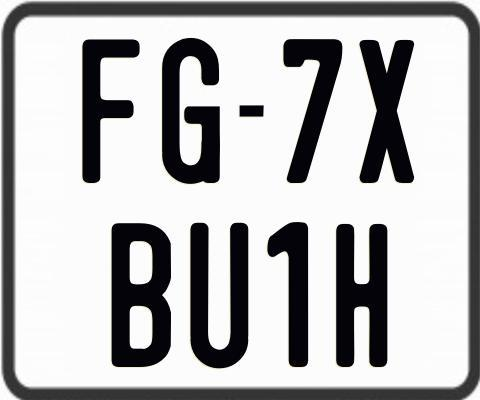1: (265, 221, 308, 367)
7: (281, 39, 345, 184)
B: (111, 220, 175, 364)
F: (79, 37, 140, 181)
G: (160, 37, 218, 186)
H: (335, 221, 392, 364)
U: (190, 220, 253, 367)
X: (357, 40, 417, 184)
